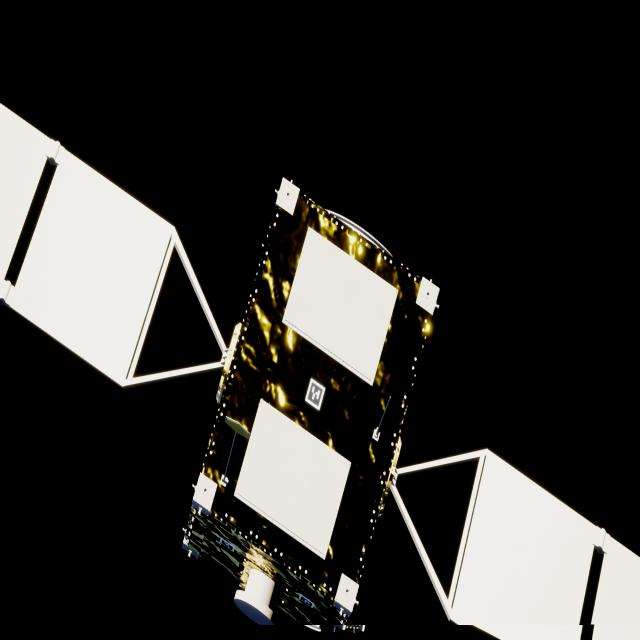satellite: (0, 104, 640, 640)
